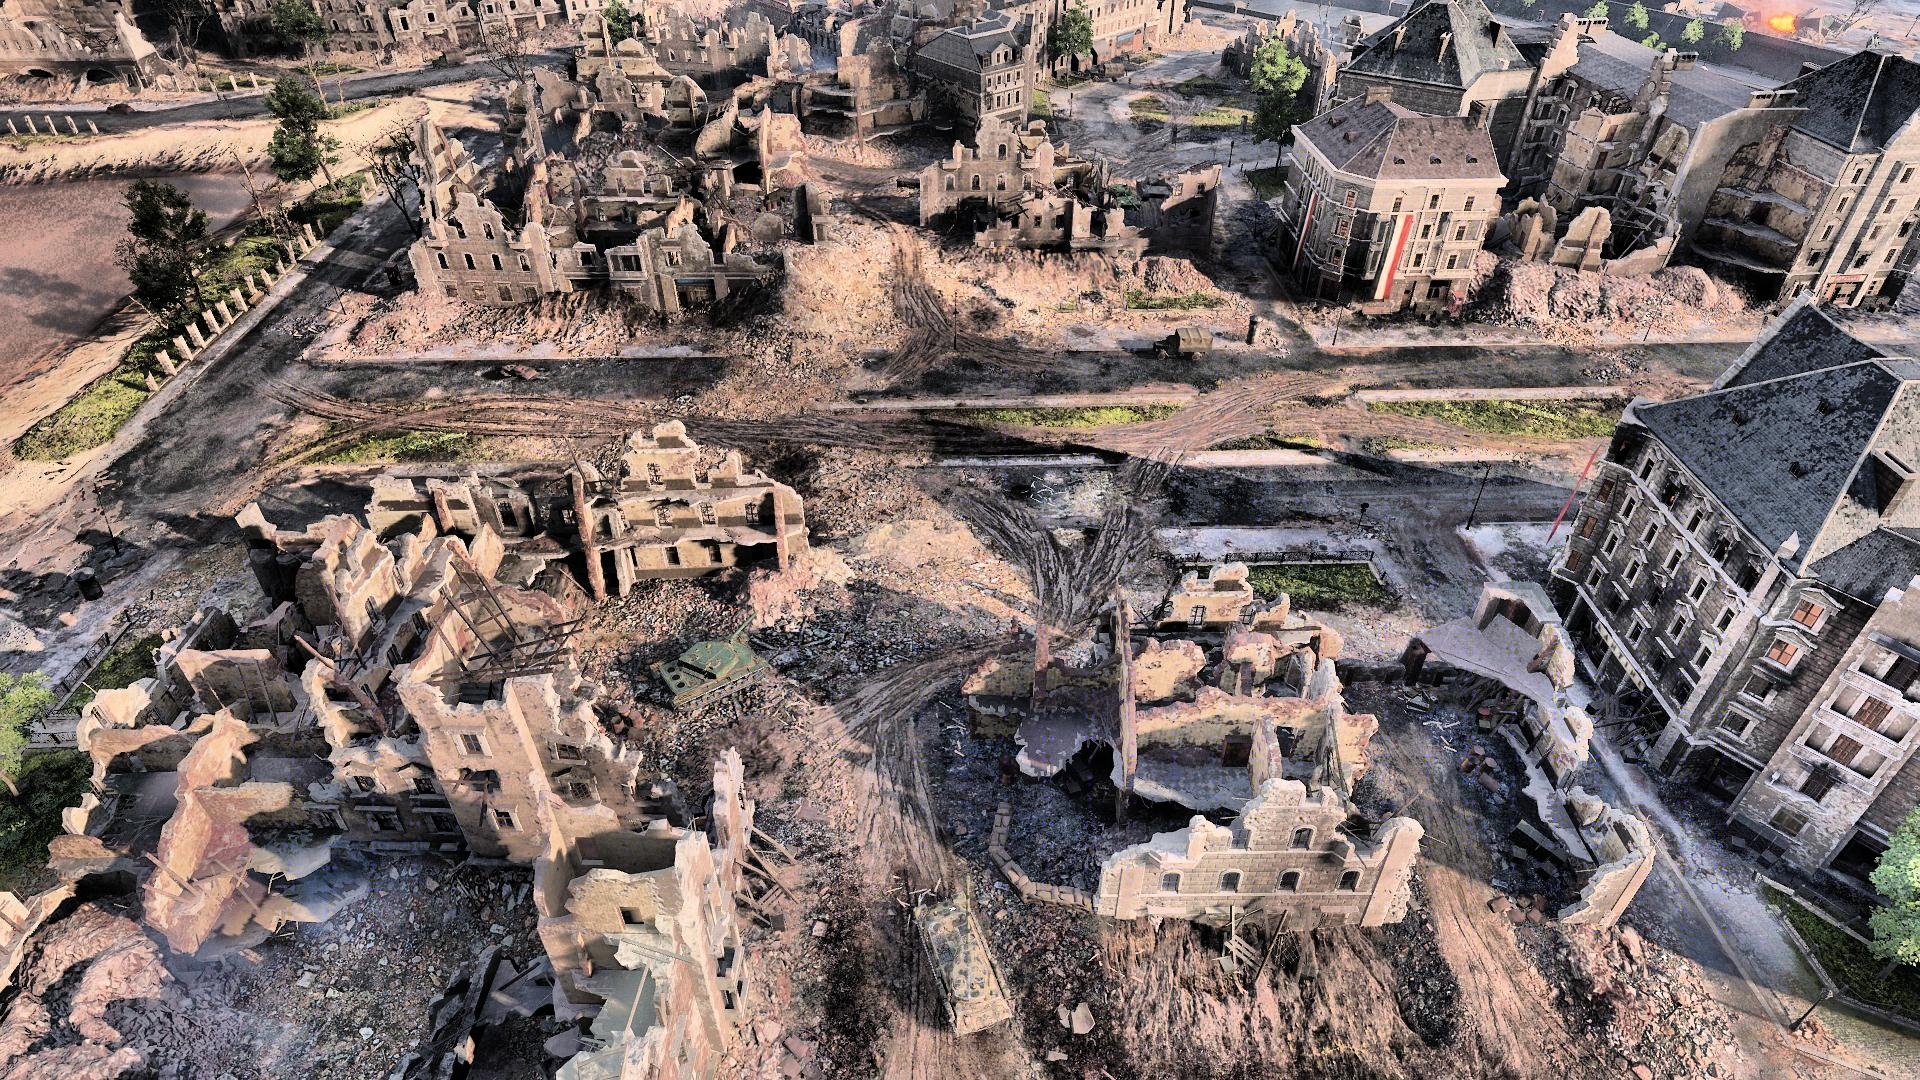military-vehicle: (914, 870, 1018, 1036), (651, 612, 771, 707), (1135, 173, 1175, 202), (1105, 182, 1141, 214)
